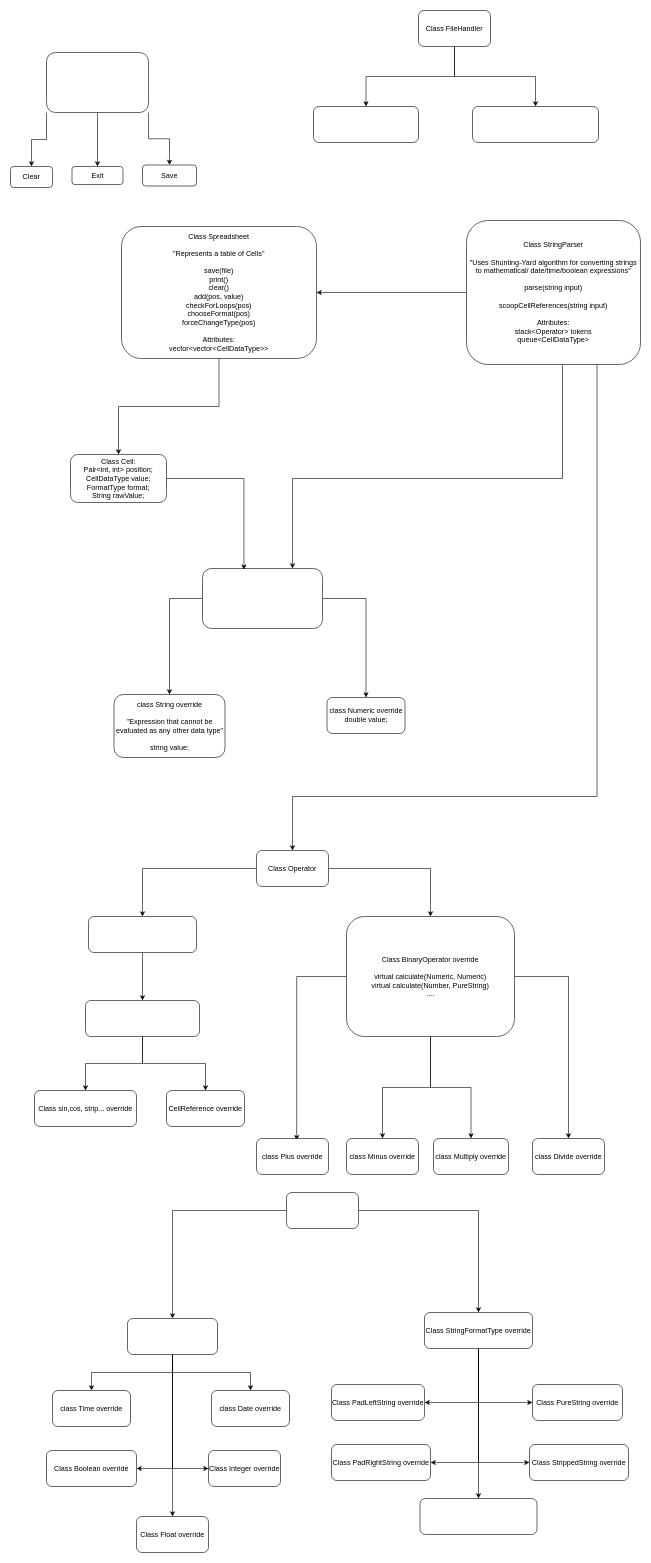
The diagram is 651 pixels wide and 1563 high, and some of its shapes have lost their labels. The shapes that lost their labels are listed below. From the top down, each one's centre as x and y in pixels, then its label:
the point at 97,82: Class Button: "Represents a button in UI"
the point at 365,124: class CSVFileHandler override importAsVector(); exportAsVector()
the point at 535,124: class ConfigFileHandler overiide importAsMap()
the point at 262,598: Class CellDataType string getRawValue() void clear()
the point at 142,934: Class UnaryOperator override
the point at 142,1018: Class Formula override
the point at 322,1210: class FormatType abstract format()
the point at 172,1336: Class NumericFormatType override
the point at 478,1516: Class MaxOneSpaceString override
